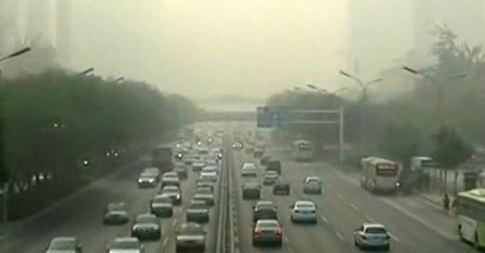bus: (447, 186, 485, 252), (359, 155, 400, 195), (289, 139, 314, 162)
car: (172, 222, 208, 252), (353, 221, 390, 249), (250, 218, 283, 246), (130, 213, 161, 240), (101, 200, 130, 226), (288, 199, 318, 224), (103, 235, 144, 253), (43, 235, 82, 253), (251, 200, 279, 224), (184, 199, 209, 221), (149, 194, 172, 217), (190, 186, 214, 207), (240, 180, 263, 200), (160, 185, 181, 204), (302, 175, 322, 193), (136, 172, 156, 189), (160, 171, 178, 188), (272, 178, 291, 194), (262, 168, 281, 184), (198, 167, 218, 182), (170, 163, 188, 178), (265, 159, 281, 174), (240, 161, 257, 175)
